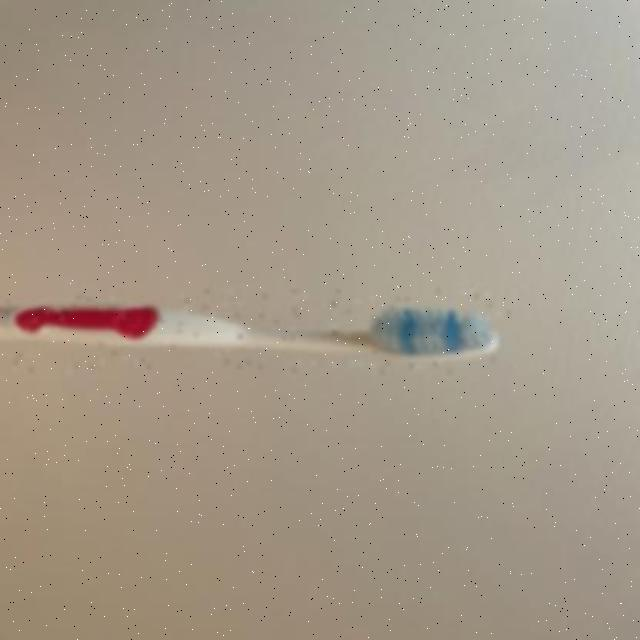toothbrush: (0, 292, 510, 372)
